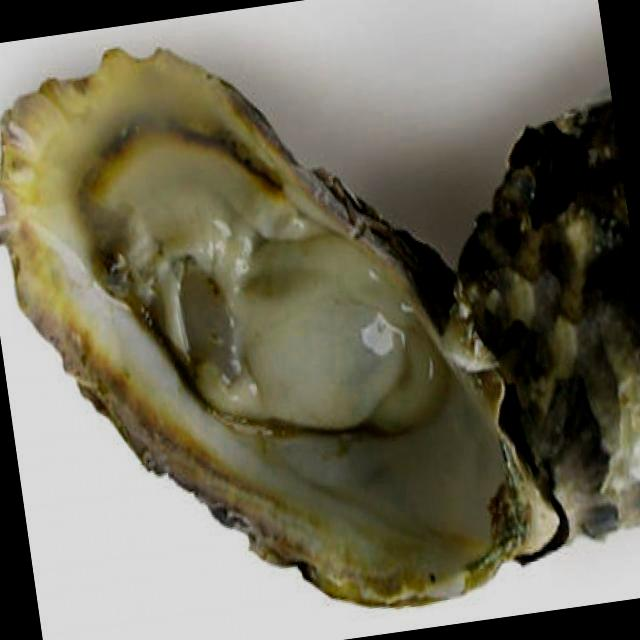Oyster-Open: (1, 48, 524, 604)
